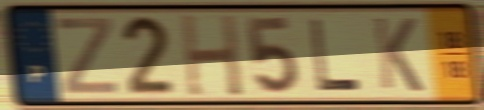2: (122, 13, 180, 98)
5: (243, 15, 302, 96)
H: (177, 11, 246, 99)
K: (370, 15, 426, 95)
L: (306, 16, 364, 93)
Z: (54, 15, 120, 97)
